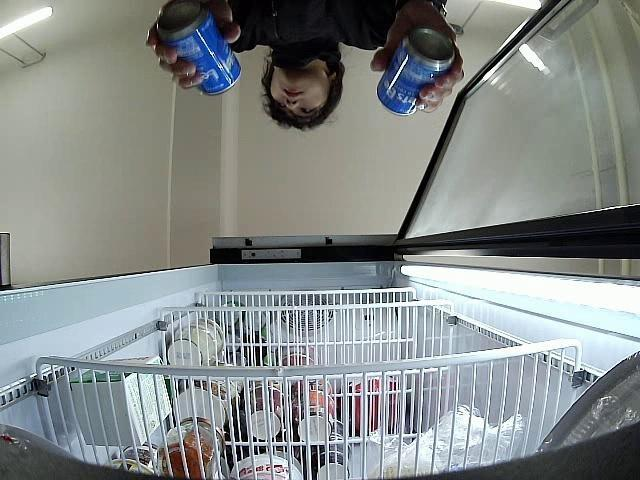15_letsbe: (155, 3, 244, 96), (378, 29, 455, 116)
